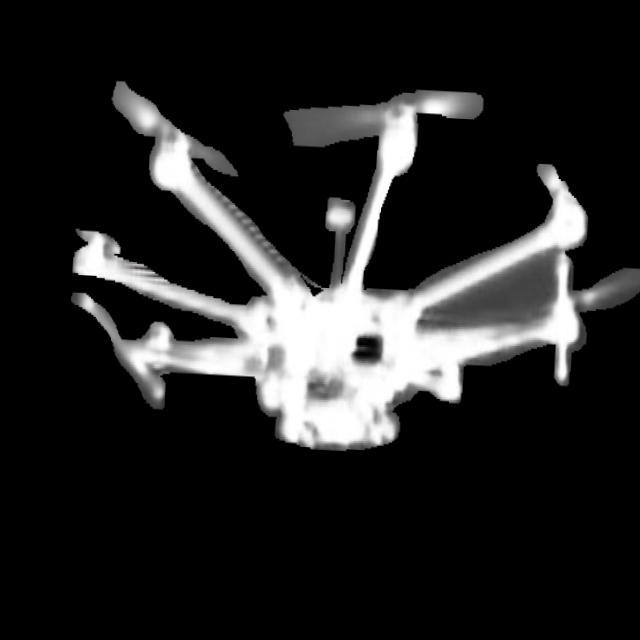drone: (13, 30, 640, 502)
